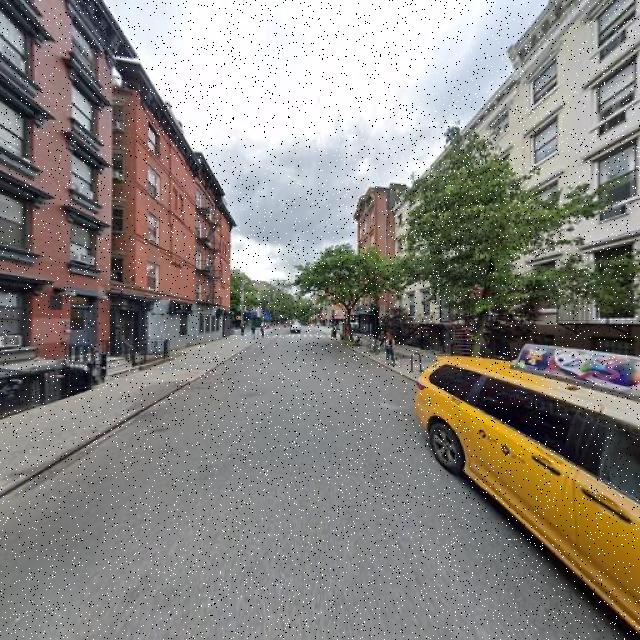Building: (534, 1, 640, 414), (1, 1, 109, 404), (140, 74, 193, 363)
